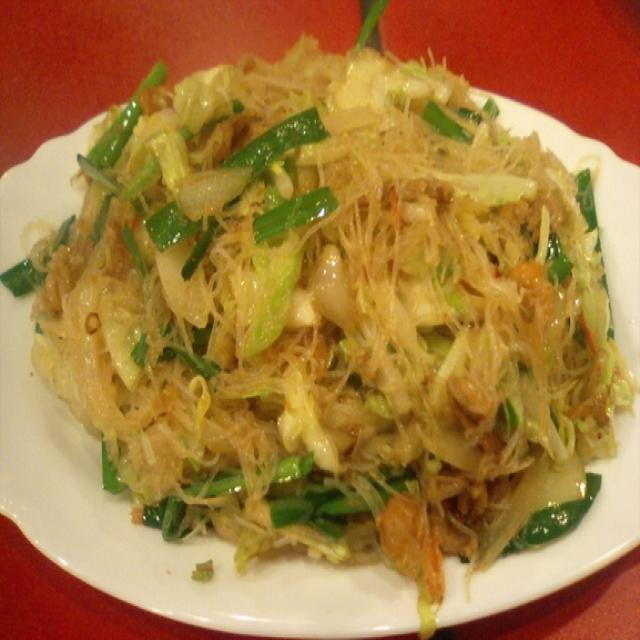熟制海鲜: (42, 189, 640, 527)
